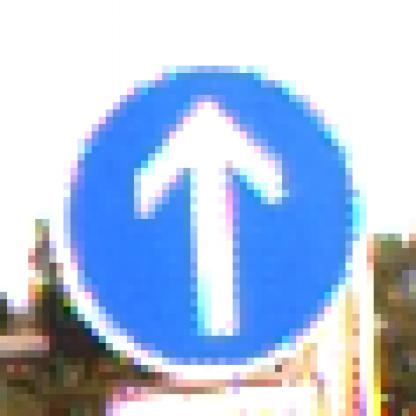AheadOnly: (43, 45, 375, 380)
